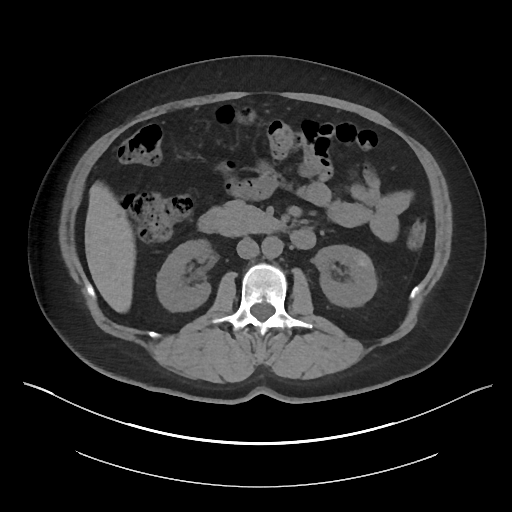Lesion: (351, 248, 374, 268)
